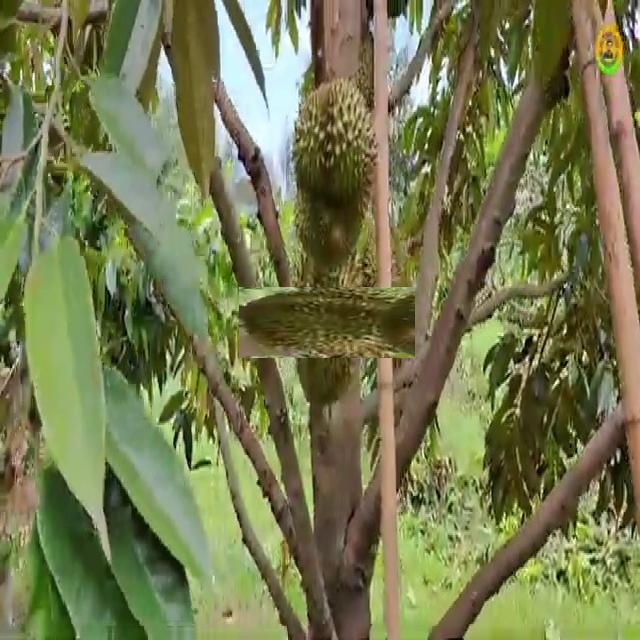durian: (288, 72, 383, 270), (265, 260, 389, 384)
